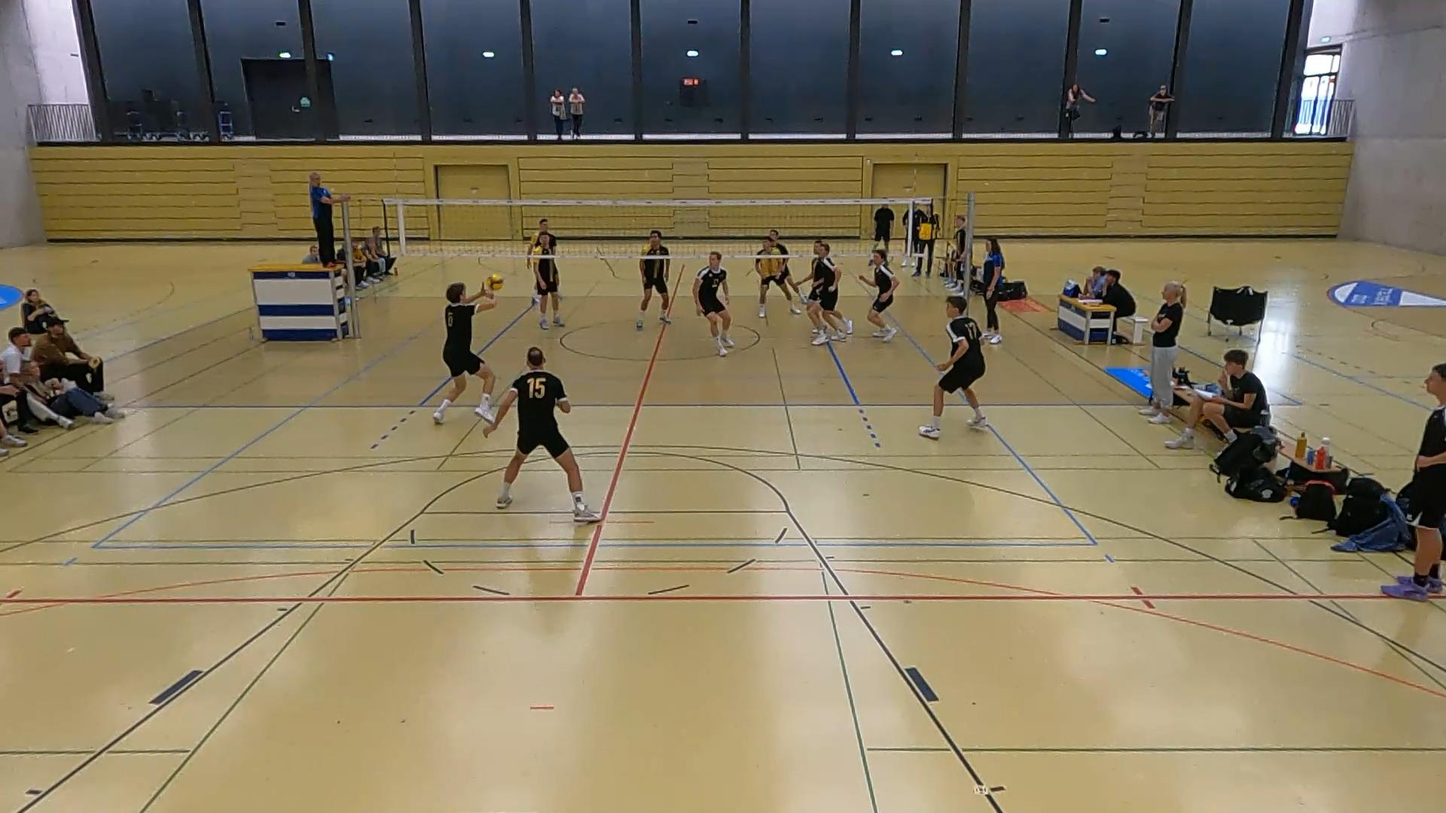Dig: (425, 275, 514, 431)
Player: (483, 347, 599, 523), (919, 296, 987, 439), (807, 240, 852, 345), (692, 251, 734, 355), (755, 230, 801, 318), (859, 249, 899, 342), (636, 230, 670, 330), (532, 232, 563, 329), (769, 229, 804, 302), (528, 218, 551, 252), (532, 218, 557, 248)
ball: (479, 271, 509, 293)
